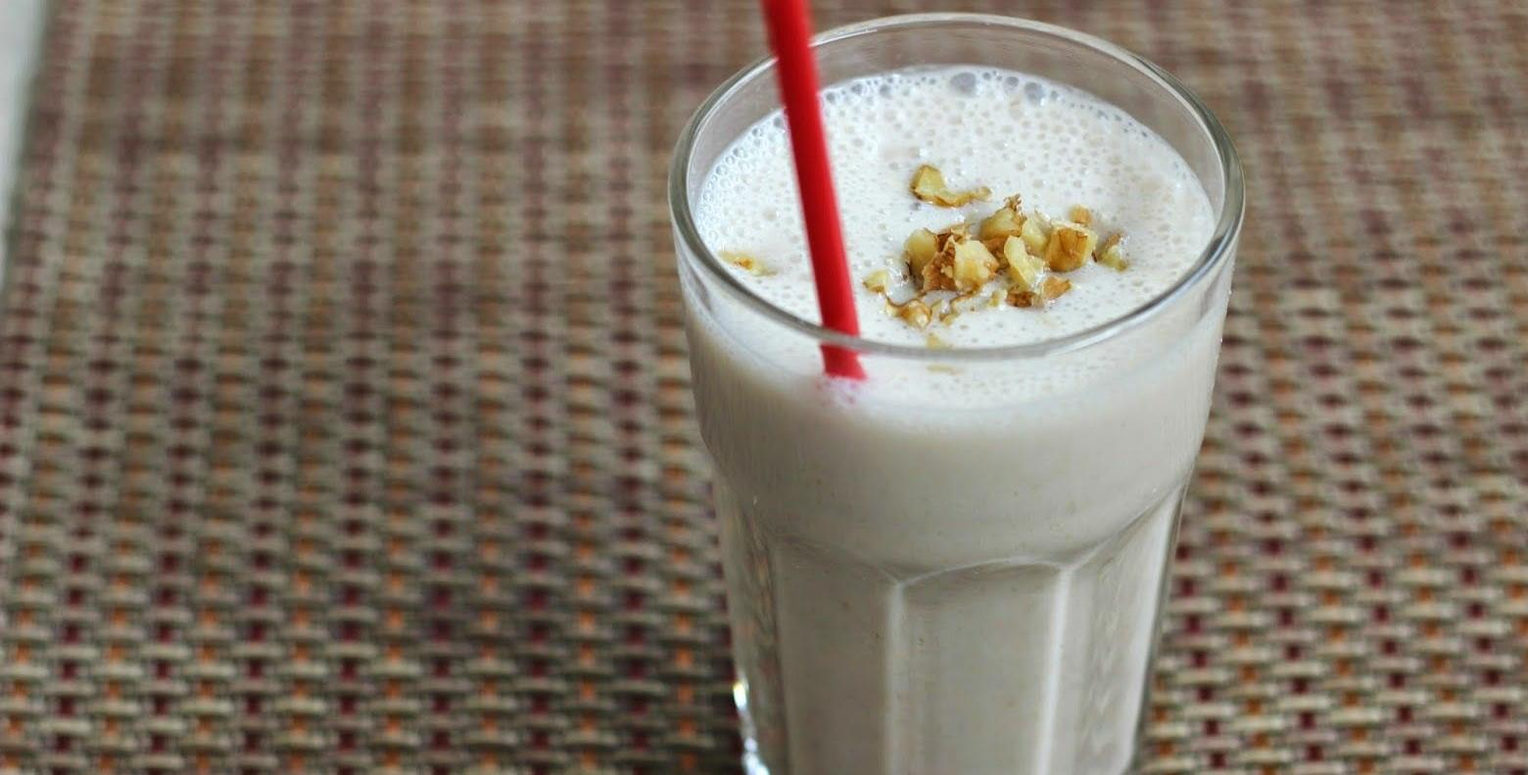Lassi: (683, 66, 1216, 775)
